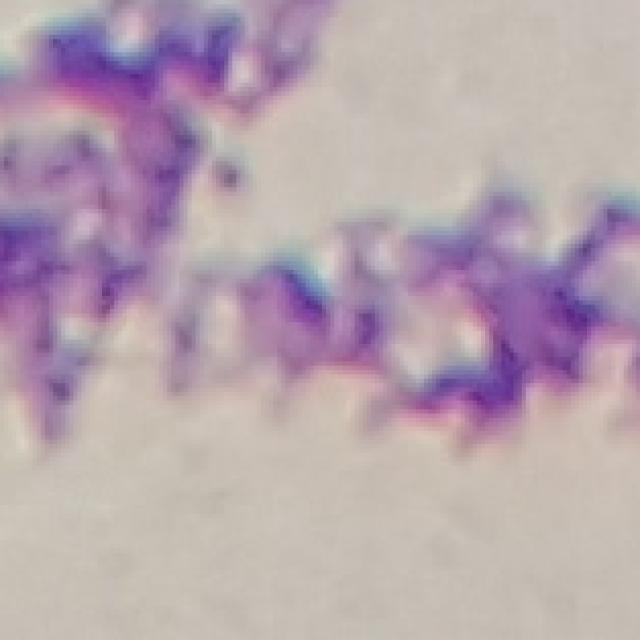non-sperm: (177, 196, 638, 439)
